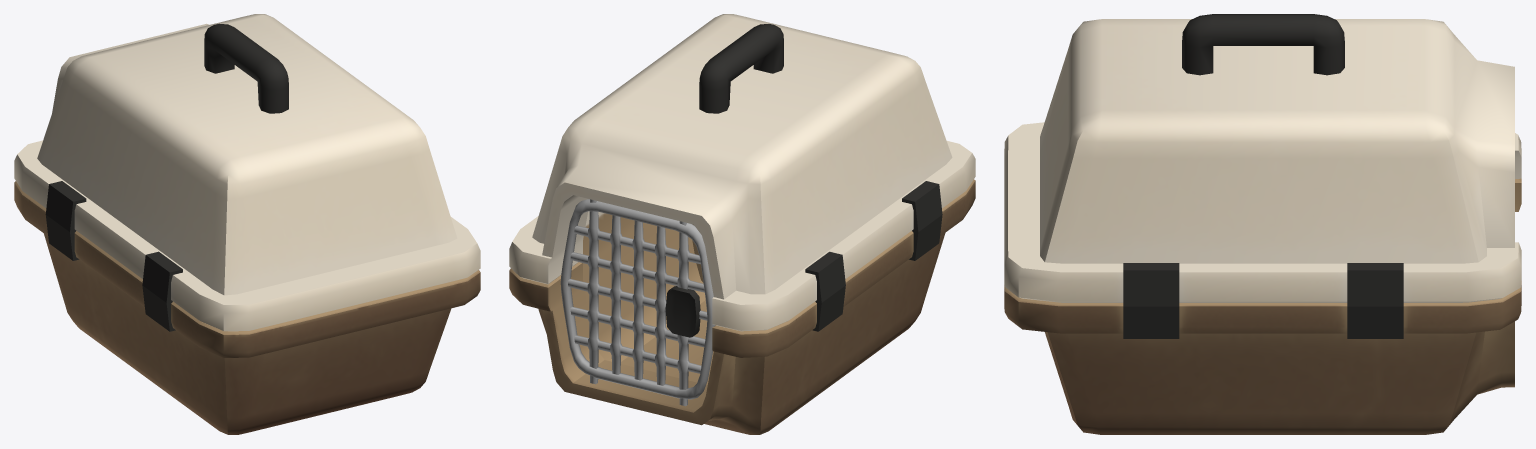
Rendered from kindergarten_asset_carrier.fbx.
3 renders of one model, left to right at view 1: azimuth 30°, elevation 25°; view 2: azimuth 150°, elevation 25°; view 3: azimuth 270°, elevation 25°, orthographic. The views are drawn at different scales.
Visible parts, largest first — view 1: carrier_lock.001; view 2: carrier_lock.001, carrier_openhandle.001; view 3: carrier_lock.001.
Part boxes in pixels (x1,y1,x2,y2): carrier_lock.001: [14, 14, 480, 434]; carrier_lock.001: [509, 14, 975, 434]; carrier_openhandle.001: [560, 199, 715, 406]; carrier_lock.001: [1004, 14, 1521, 434].
Bounding box in the file's own units: 112 × 122 × 154.
Materials: 1 (1 with a texture image).
